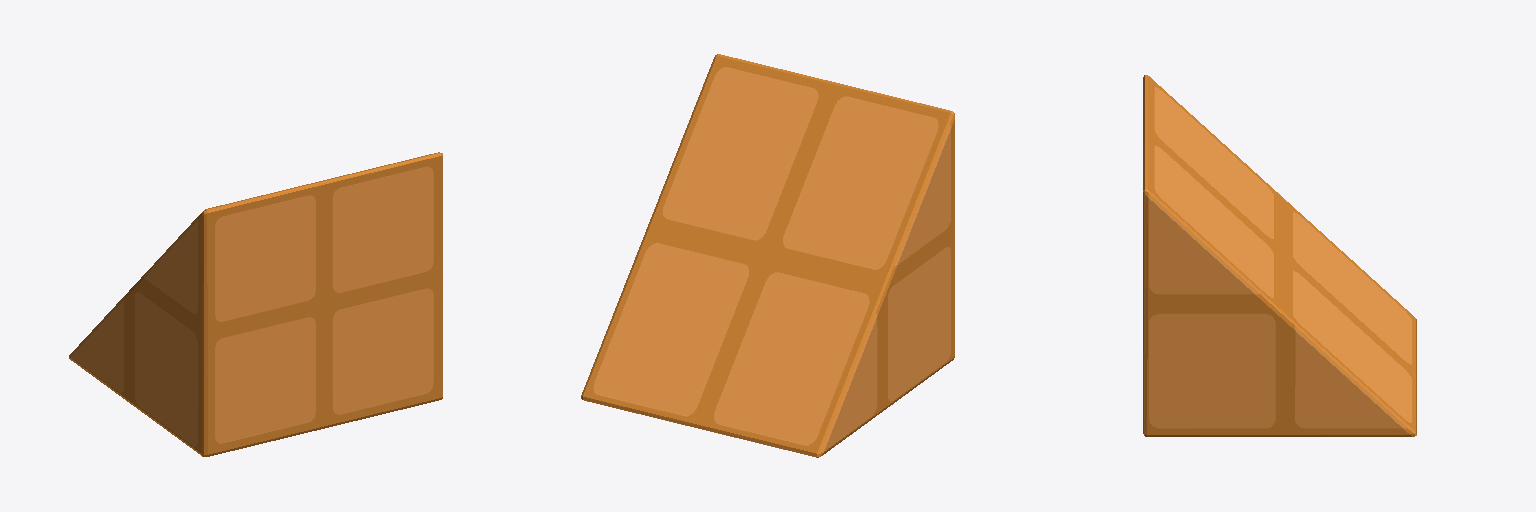
3 renders of one model, left to right at view 1: azimuth 30°, elevation 25°; view 2: azimuth 150°, elevation 25°; view 3: azimuth 270°, elevation 25°, orthographic.
Visible parts, largest first — view 1: pCube2_Mesh.014; view 2: pCube2_Mesh.014; view 3: pCube2_Mesh.014.
Part boxes in pixels (bbox=[...]): pCube2_Mesh.014: bbox=[69, 152, 442, 456]; pCube2_Mesh.014: bbox=[581, 54, 954, 457]; pCube2_Mesh.014: bbox=[1143, 75, 1416, 436].
Size of the model in its own units: 2 by 1.97 by 1.97.
Materials: 1 (1 with a texture image).